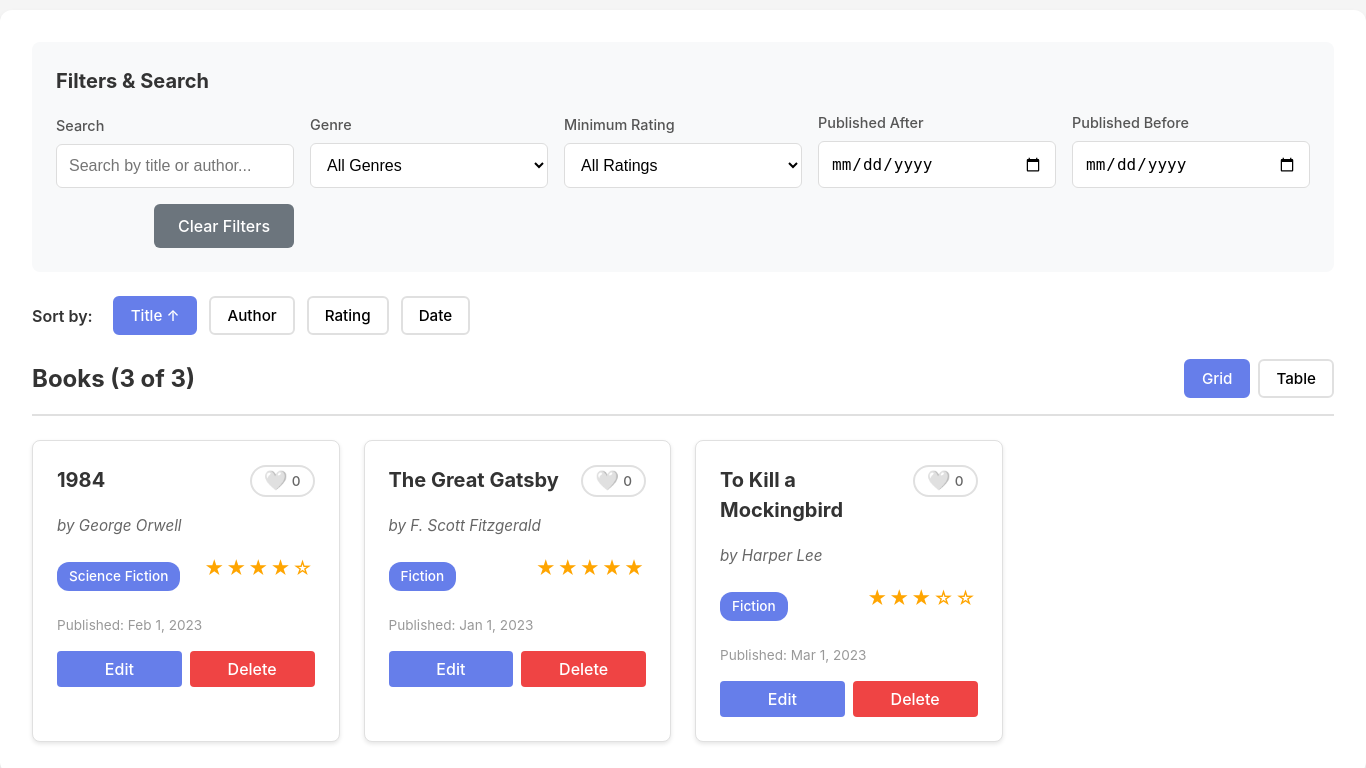
it: BookList › Filtering and Sorting › clears all filters
The width and height of the screenshot is (1366, 768).
// Apply filters
In the field with placeholder "Search by title or author...": (175, 166) [56,144,294,188], type "Gatsby"
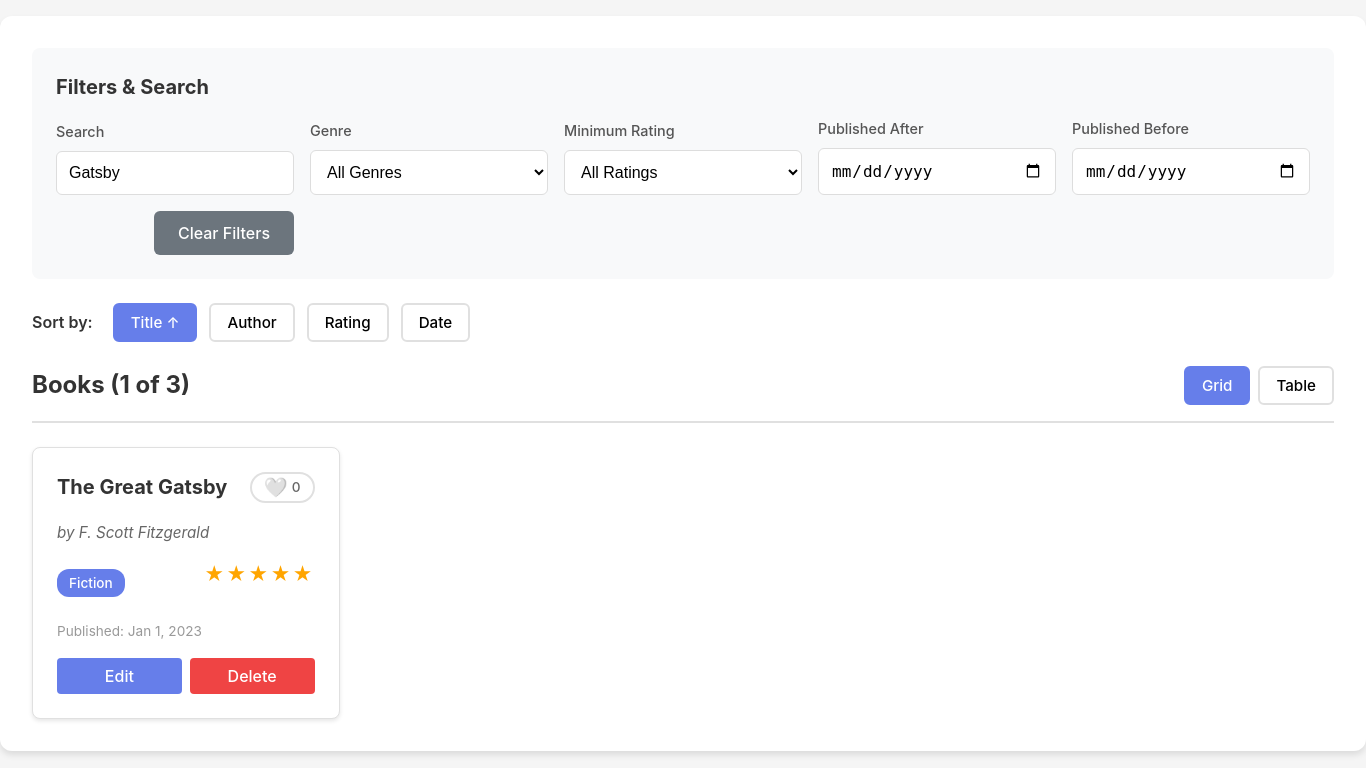
// Clear filters - get the one in the filters section
Click the button "Clear Filters": (224, 233) [154,211,294,255]
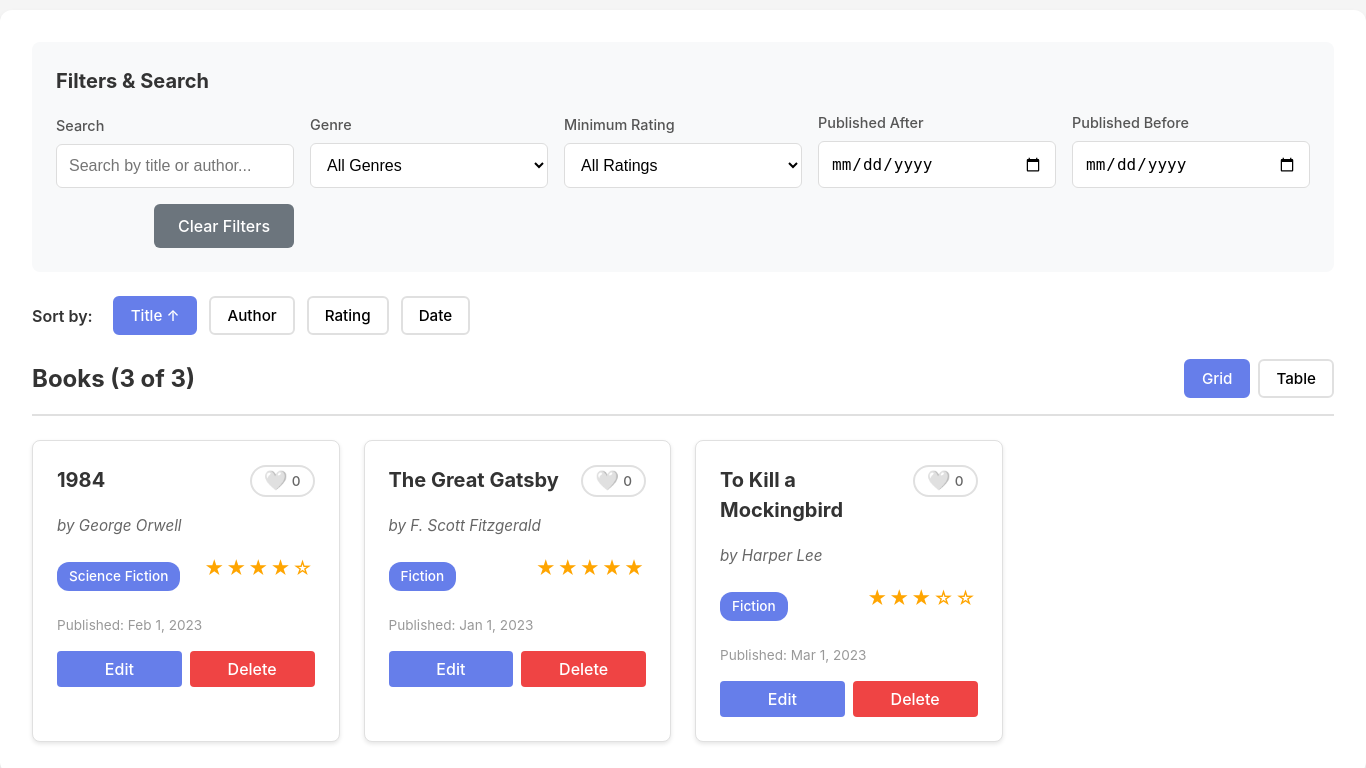
Expected: the heading "The Great Gatsby" is shown, [388,465,565,495]
Now the heading "1984" is shown, box [57,468,105,492]
Now the heading "To Kill a Mockingbird" is shown, box [720,468,843,522]
